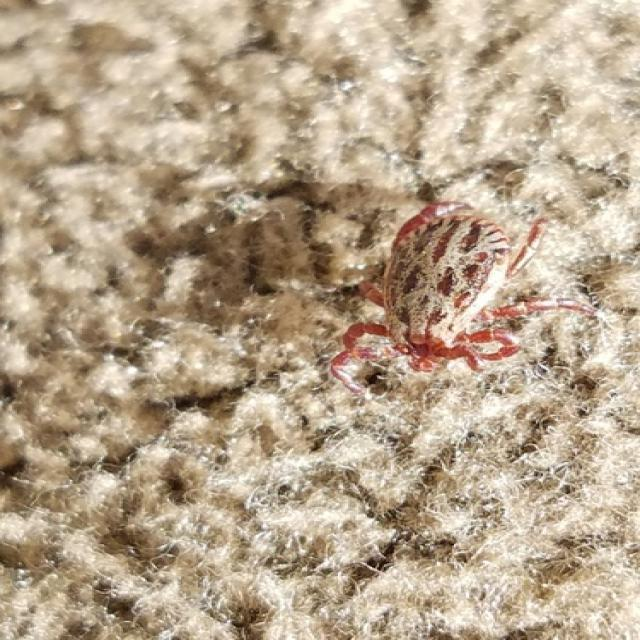Dermacentor Reticulatus-M: (329, 201, 589, 389)
